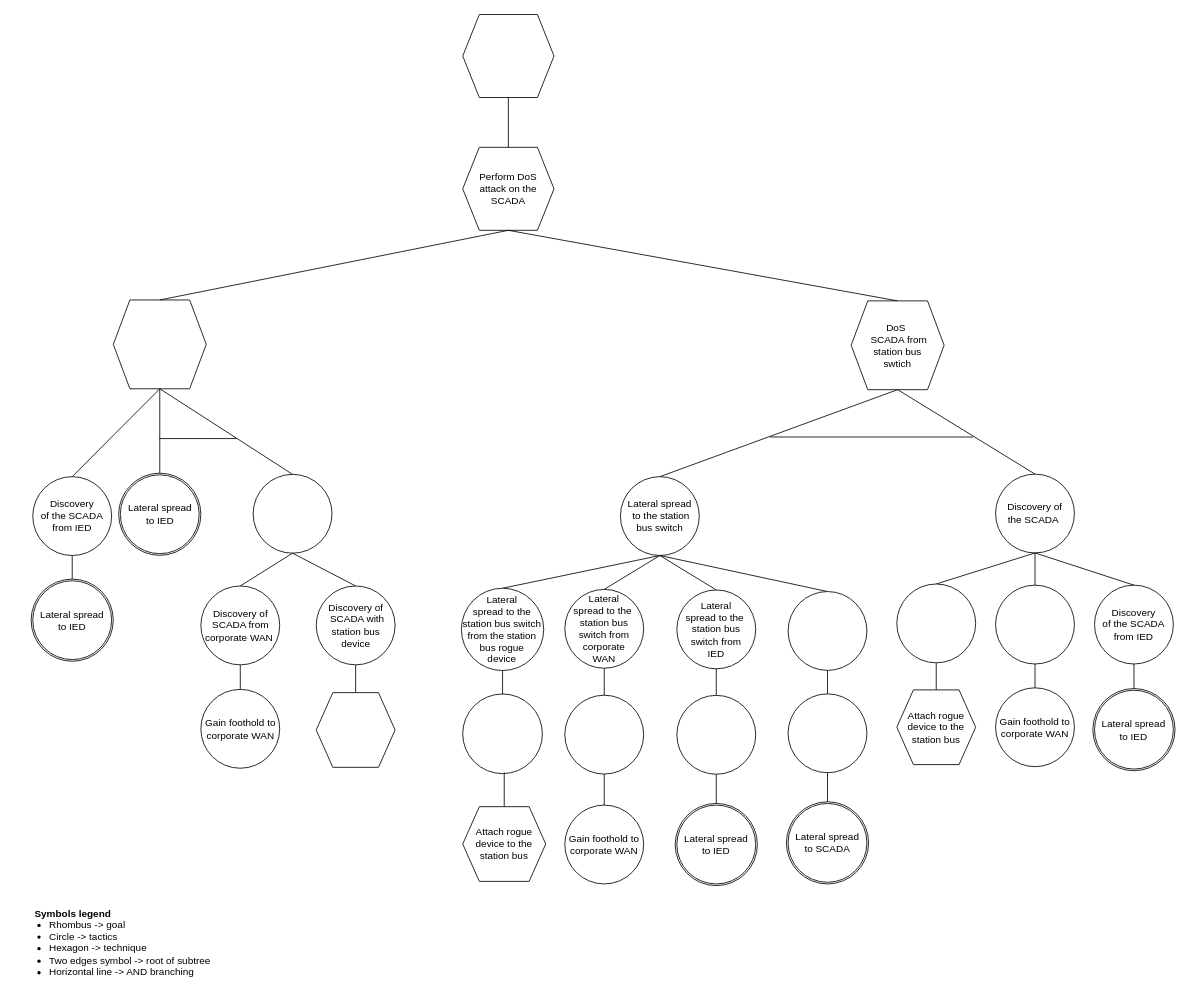
Some shapes in this 1189 by 1007 pixel diagram are drawn without their labels. The box of each missing label's shape, as (x1, y1, x2, y2) in pixels:
Attach rogue device to the process bus: (315, 692, 395, 767)
Discovery of the SCADA from corporate WAN: (995, 584, 1074, 664)
Discovery of the SCADA not from IED: (252, 474, 332, 553)
Discovery of the SCADA with the station bus rogue device: (896, 583, 976, 663)
Discovery of the station bus switch from corporate WAN: (564, 694, 644, 774)
Discovery of the station bus switch from IED: (676, 695, 756, 774)
Discovery of the station bus switch from SCADA: (787, 693, 867, 773)
Discovery of the station bus switch from the station bus device: (462, 693, 542, 774)
DoS SCADA from IED: (112, 299, 206, 389)
Lateral spread to the station bus switch from SCADA: (787, 591, 867, 670)
Perform DoS attack: (462, 14, 554, 98)
